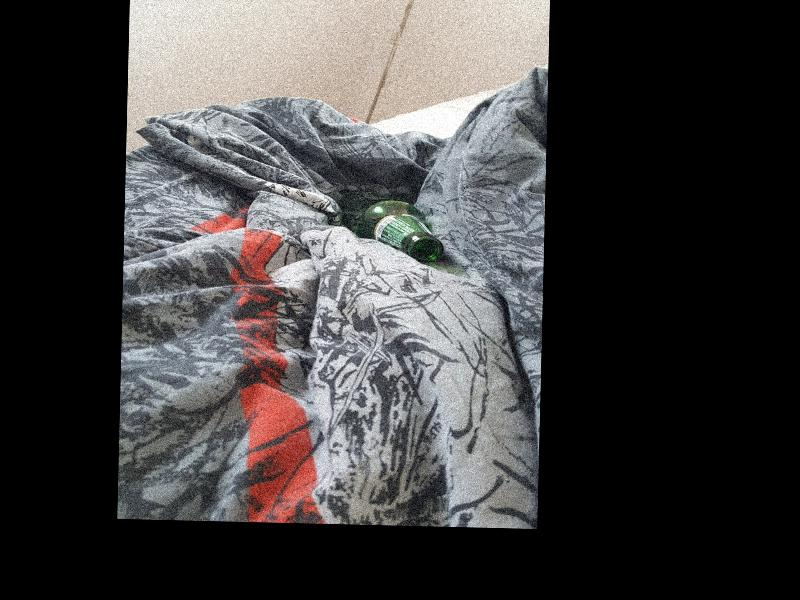Beer: (335, 190, 445, 264)
